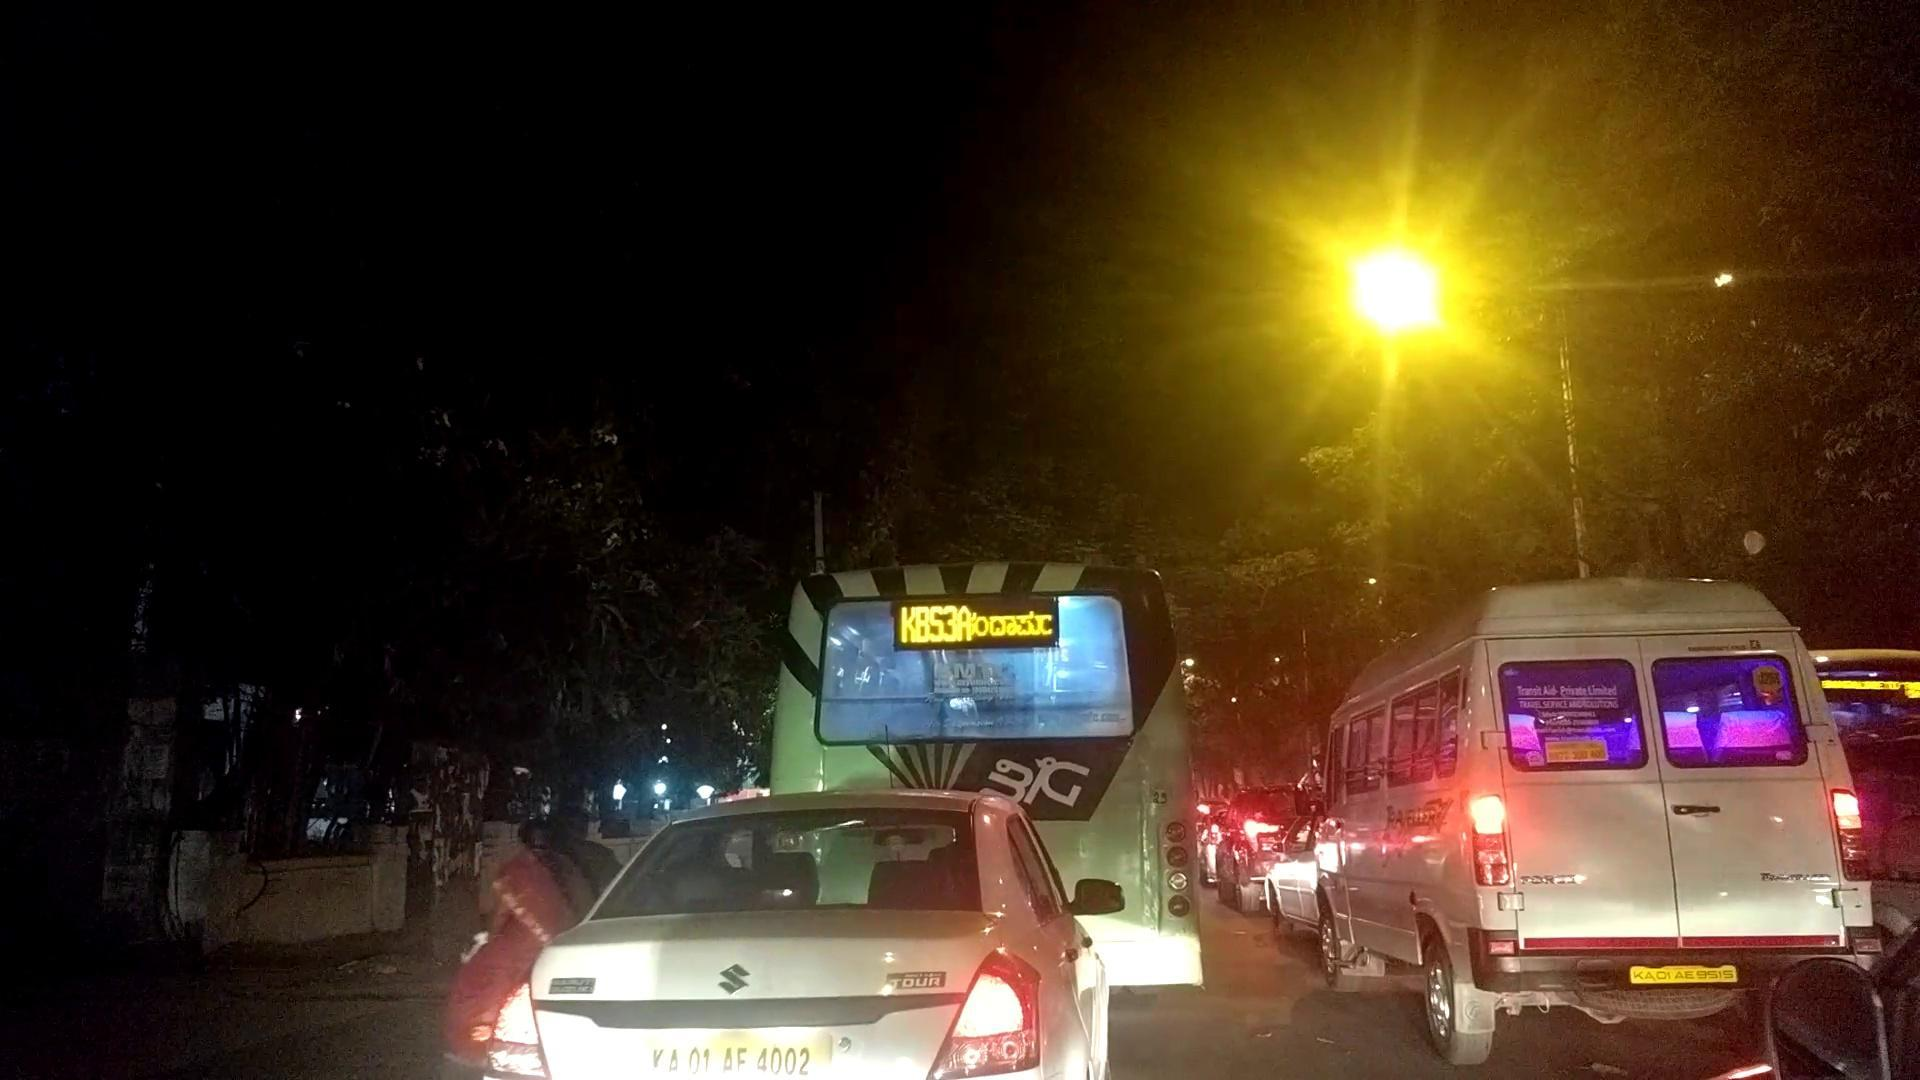on: (50, 0, 1903, 1080)
